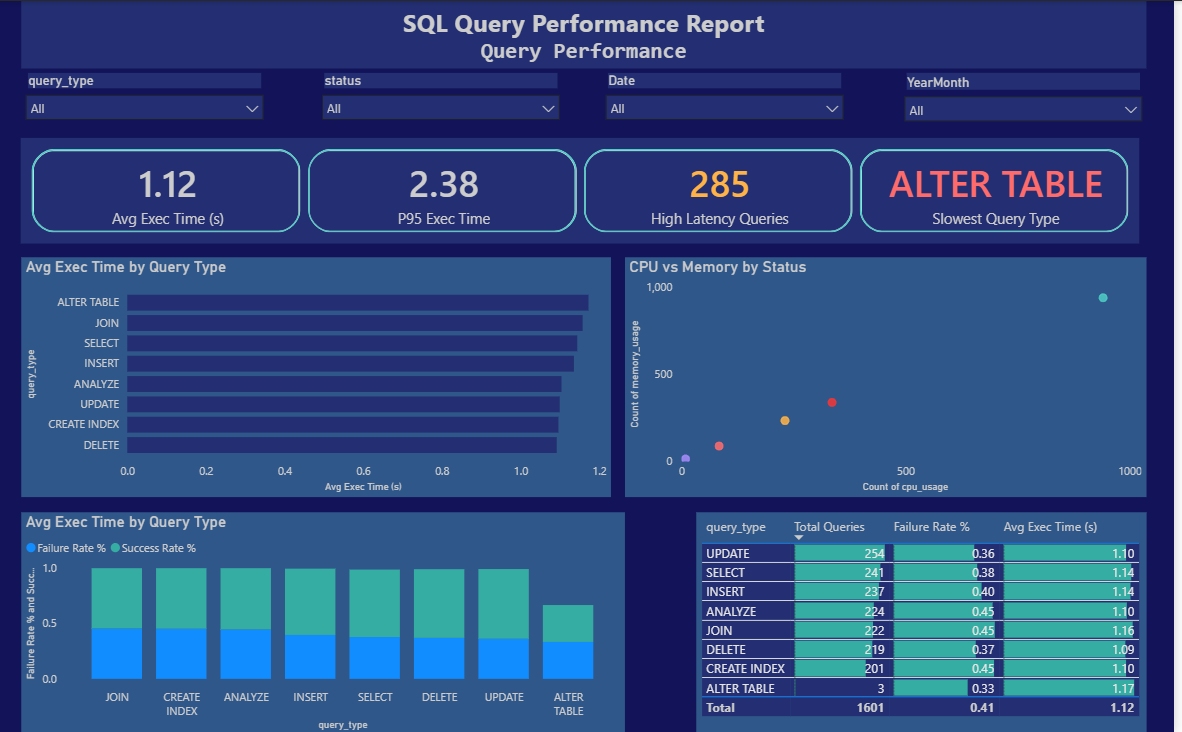

This screenshot's page, from the dashboard's own definition file:
{"tool":"powerbi","page":{"name":"Query Performance","canvas":[1280,800],"ordinal":1},"visuals":[{"type":"slicer","fields":{"Values":["logs.query_type"]},"box":[17.8,74.1,279.9,59],"z":0},{"type":"textbox","box":[23.2,0,1227,73.6],"z":1000},{"type":"slicer","fields":{"Values":["logs.status"]},"box":[340.3,74.1,279.9,59],"z":2000},{"type":"slicer","fields":{"Values":["Date.Date"]},"box":[650.4,74.1,279.9,59],"z":3000},{"type":"slicer","fields":{"Values":["Date.YearMonth"]},"box":[975.6,74.1,279.9,59],"z":4000},{"type":"cardVisual","fields":{"Data":["Measure (2).Avg Exec Time (s)","Measure (2).P95 Exec Time","Measure (2).High Latency Queries","Measure (2).Slowest Query Type"]},"box":[17.7,144.5,1232.5,125.4],"z":5000},{"type":"clusteredBarChart","title":"Avg Exec Time by Query Type","fields":{"Y":["Measure (2).Avg Exec Time (s)"],"Category":["logs.query_type"]},"box":[23.2,279.5,643.5,261.8],"z":6000},{"type":"scatterChart","title":"CPU vs Memory by Status","fields":{"Category":["logs.status"],"X":["CountNonNull(logs.cpu_usage)"],"Y":["CountNonNull(logs.memory_usage)"]},"box":[681.7,279.5,568.5,261.8],"z":7000},{"type":"tableEx","fields":{"Values":["logs.query_type","Measure (2).Total Queries","Measure (2).Failure Rate %","Measure (2).Avg Exec Time (s)"]},"box":[759.4,557.6,490.8,242.7],"z":8000},{"type":"columnChart","title":"Avg Exec Time by Query Type","fields":{"Category":["logs.query_type"],"Y":["Measure (2).Failure Rate %","Measure (2).Success Rate %"]},"box":[23.2,557.6,658.5,242.7],"z":8001}]}

Visuals, with their boxes in screenshot pixels (x1, y1, x2, y2), scaled from the page's 1280x800 canvas onto the 1182x732 screenshot:
slicer - logs.query_type: rect(16, 68, 275, 122)
textbox: rect(21, 0, 1154, 67)
slicer - logs.status: rect(314, 68, 573, 122)
slicer - Date.Date: rect(601, 68, 859, 122)
slicer - Date.YearMonth: rect(901, 68, 1159, 122)
cardVisual - Measure (2).Avg Exec Time (s) x Measure (2).P95 Exec Time: rect(16, 132, 1154, 247)
"Avg Exec Time by Query Type" clusteredBarChart: rect(21, 256, 616, 495)
"CPU vs Memory by Status" scatterChart: rect(630, 256, 1154, 495)
tableEx - logs.query_type x Measure (2).Total Queries: rect(701, 510, 1154, 731)
"Avg Exec Time by Query Type" columnChart: rect(21, 510, 630, 731)
